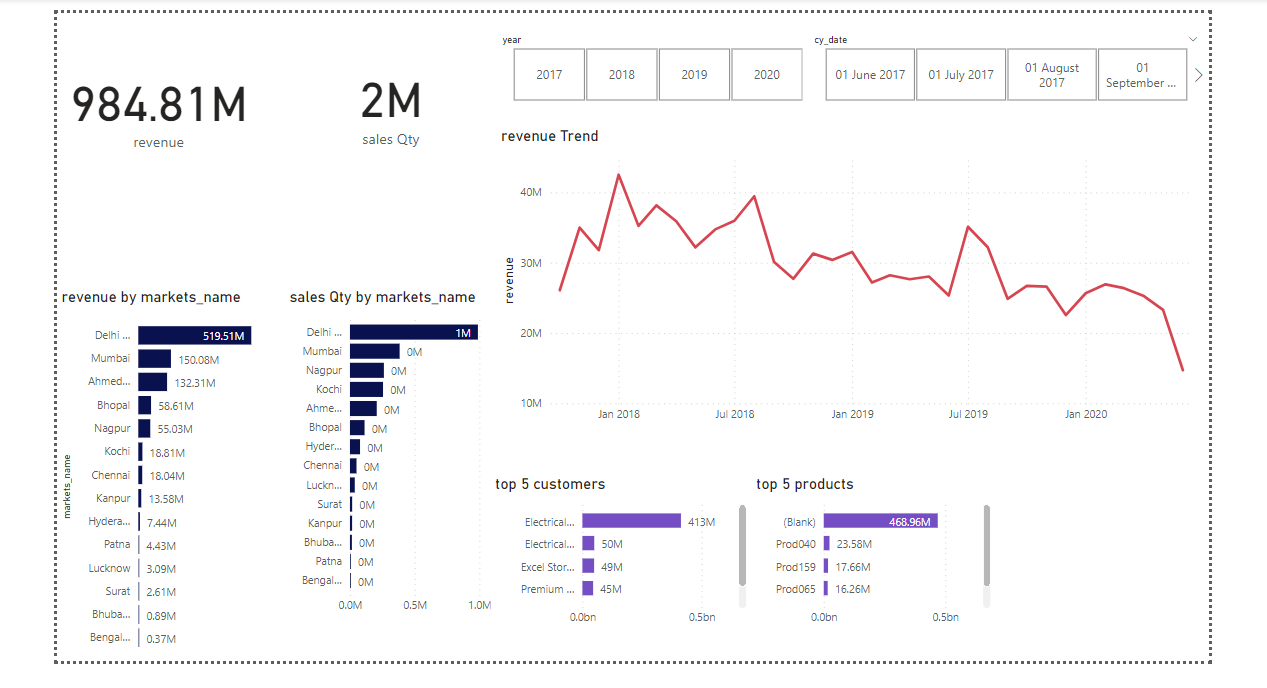

This screenshot's page, from the dashboard's own definition file:
{"tool":"powerbi","page":{"name":"Page 1","canvas":[1280,720],"ordinal":0},"visuals":[{"type":"card","fields":{"Values":["basemeasures.revenue"]},"box":[0,0,225.7,209],"z":0},{"type":"card","fields":{"Values":["basemeasures.sales Qty"]},"box":[246,0,248,200],"z":1000},{"type":"barChart","fields":{"Y":["basemeasures.revenue"],"Category":["sales markets.markets_name"]},"box":[0,305.2,240,414.8],"z":2000},{"type":"slicer","fields":{"Values":["sales date.year"]},"box":[481.6,19.1,370.3,85.8],"z":3000},{"type":"barChart","fields":{"Y":["basemeasures.sales Qty"],"Category":["sales markets.markets_name"]},"box":[252.7,305.2,235.2,371.9],"z":4000},{"type":"barChart","title":"top 5 customers","fields":{"Y":["basemeasures.revenue"],"Category":["sales customers.custmer_name"]},"box":[481.6,513.4,289.3,186],"z":5000},{"type":"barChart","title":"top 5 products","fields":{"Y":["basemeasures.revenue"],"Category":["sales products.product_code"]},"box":[770.9,513.4,270.2,186],"z":6000},{"type":"slicer","fields":{"Values":["sales date.cy_date"]},"box":[828.1,19.1,451.4,85.8],"z":7000},{"type":"lineChart","title":"revenue Trend","fields":{"Y":["basemeasures.revenue"],"Category":["sales date.cy_date"]},"box":[487.9,127.2,791.5,337],"z":8000}]}

Visuals, with their boxes on the page's 1280x720 design canvas (x1, y1, x2, y2). These are canvas units, not pixel positions in the 1267x688 screenshot, which may show the page scaled, cropped or inside an application window:
card - basemeasures.revenue: [left=0, top=0, right=226, bottom=209]
card - basemeasures.sales Qty: [left=246, top=0, right=494, bottom=200]
barChart - basemeasures.revenue x sales markets.markets_name: [left=0, top=305, right=240, bottom=720]
slicer - sales date.year: [left=482, top=19, right=852, bottom=105]
barChart - basemeasures.sales Qty x sales markets.markets_name: [left=253, top=305, right=488, bottom=677]
"top 5 customers" barChart: [left=482, top=513, right=771, bottom=699]
"top 5 products" barChart: [left=771, top=513, right=1041, bottom=699]
slicer - sales date.cy_date: [left=828, top=19, right=1280, bottom=105]
"revenue Trend" lineChart: [left=488, top=127, right=1279, bottom=464]
